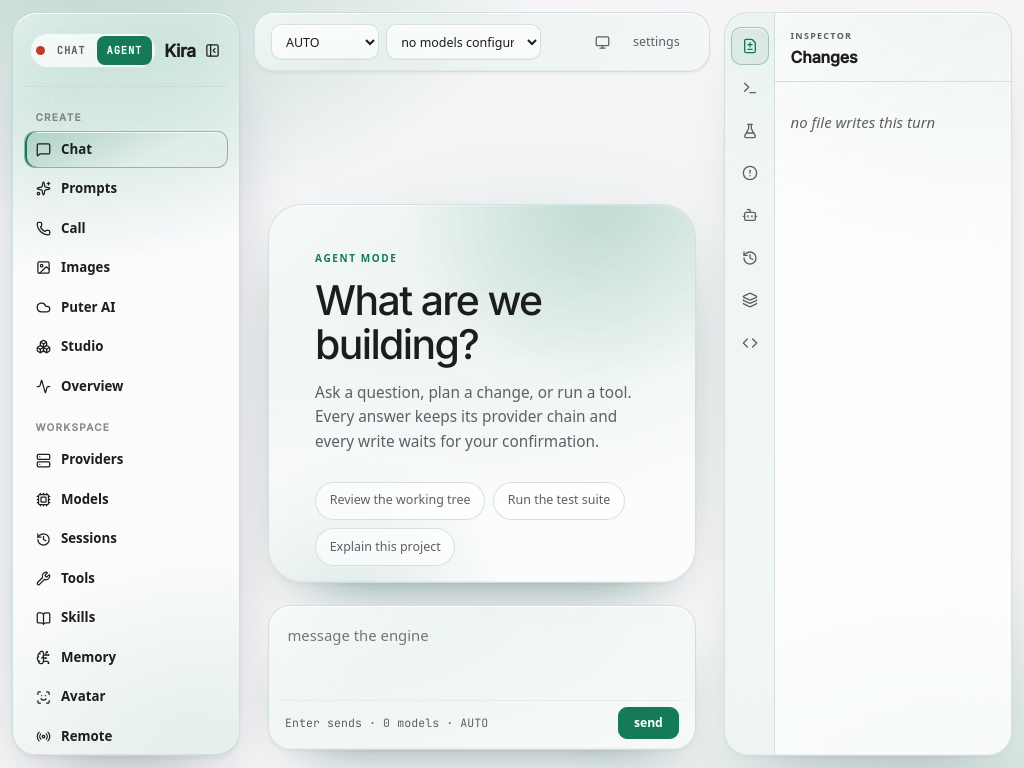
Test case: App › folds the chain into a sentence in the agent shell
In the text box labelled "message": (482, 657) [279, 615, 685, 699], type "go"
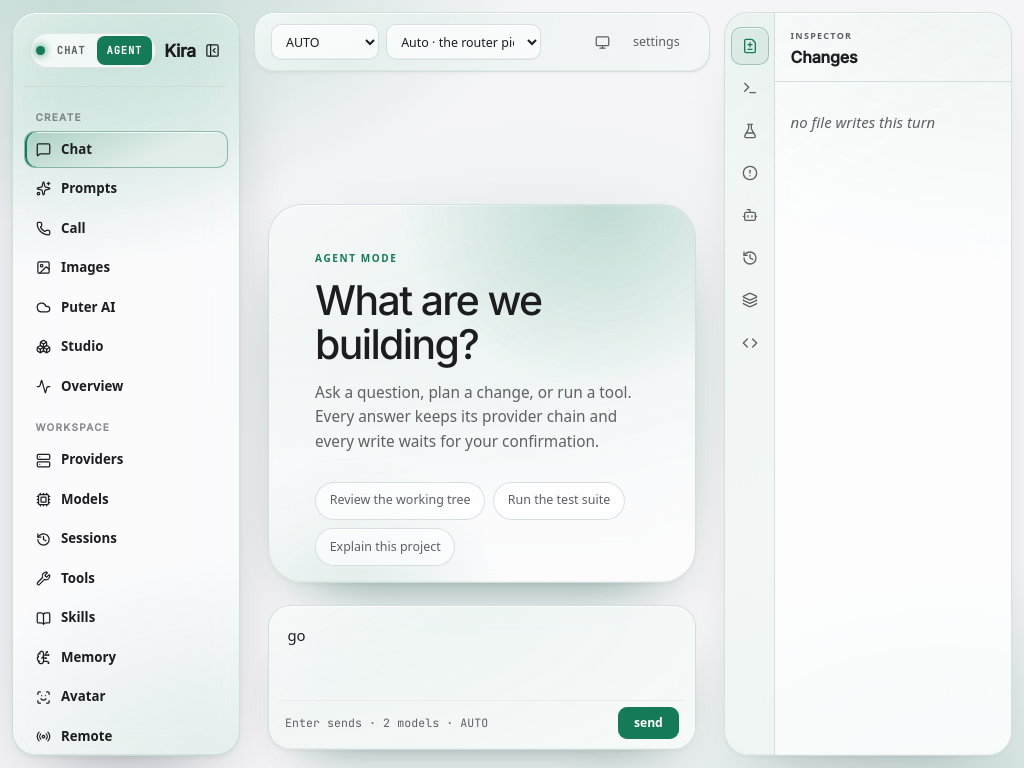
Click the button "send": (648, 723) [618, 707, 679, 739]
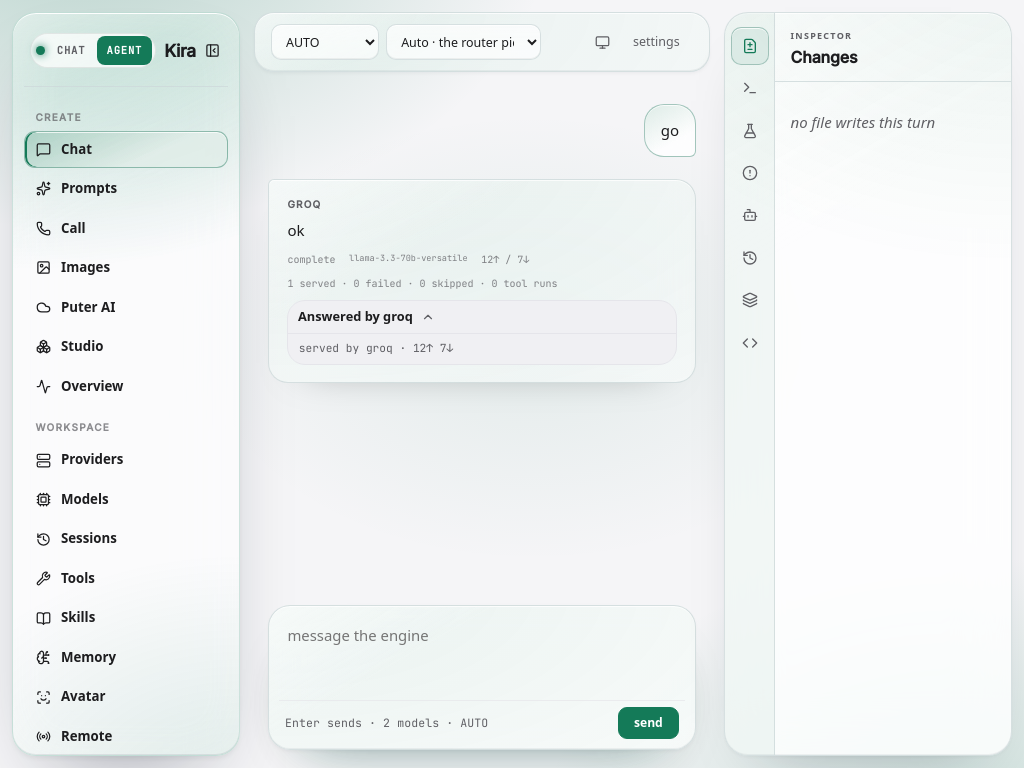
expect the text "ok" is shown: met, box [287, 220, 304, 240]
expect the text "Answered by groq" is shown: met, box [298, 308, 413, 327]
expect the text "served by groq · 12↑ 7↓" is shown: met, box [288, 333, 676, 364]
